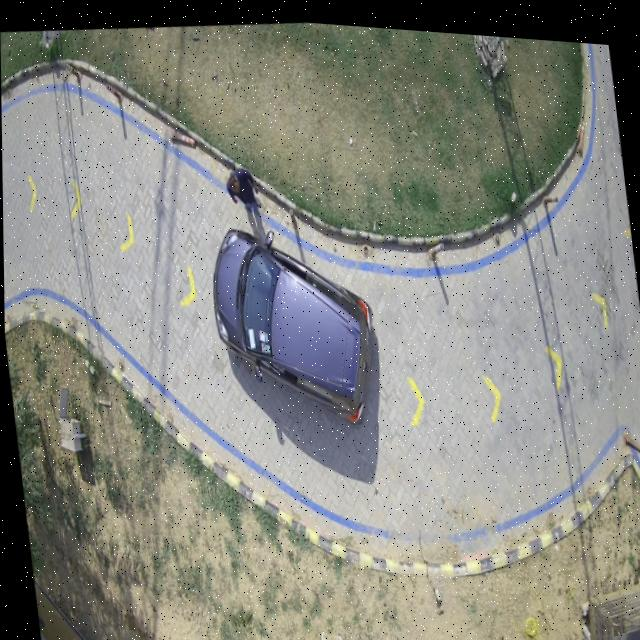car: (211, 227, 371, 414)
